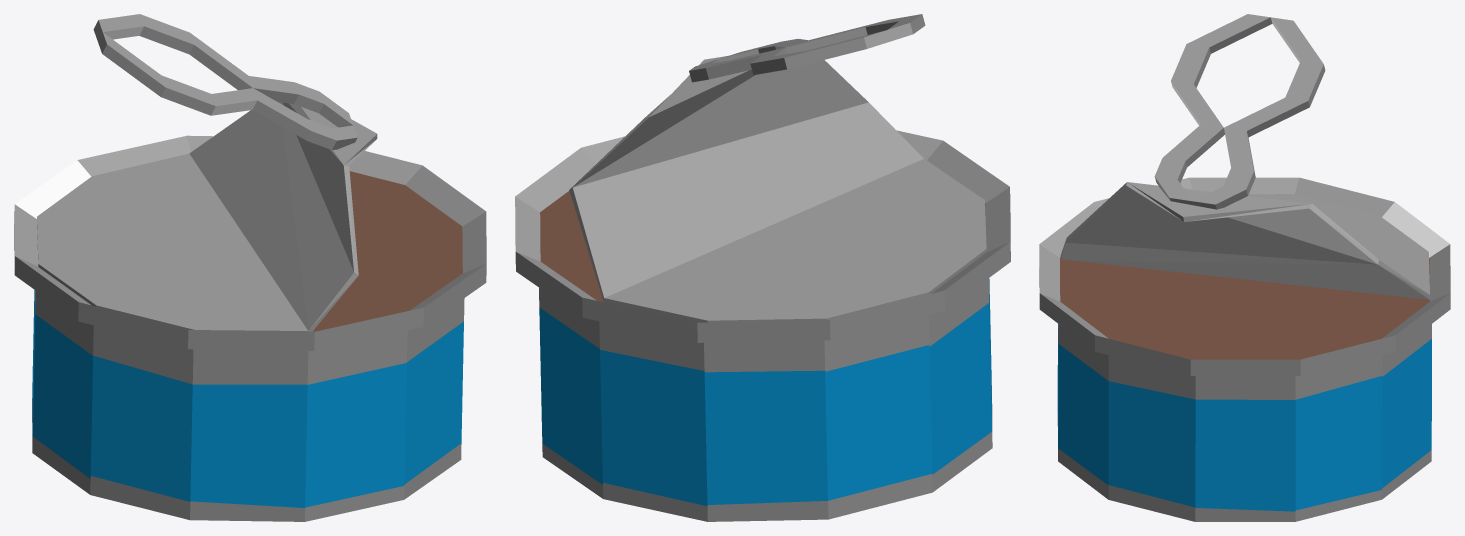
The model's file is item10.fbx.
The picture shows the model from 3 angles, left to right: view 1: azimuth 30°, elevation 25°; view 2: azimuth 150°, elevation 25°; view 3: azimuth 270°, elevation 25°; orthographic projection. The views are drawn at different scales.
Parts seen in each view (by area): view 1: group165027230, group558427750, group1010671563; view 2: group165027230, group558427750, group1010671563; view 3: group165027230, group558427750, group1010671563.
Part boxes in pixels (<box>): group165027230: <box>14,135,486,521</box>; group558427750: <box>37,102,377,331</box>; group1010671563: <box>93,14,357,149</box>; group165027230: <box>515,130,1010,521</box>; group558427750: <box>569,56,986,322</box>; group1010671563: <box>689,14,925,82</box>; group165027230: <box>1039,177,1450,521</box>; group558427750: <box>1060,182,1430,299</box>; group1010671563: <box>1154,14,1325,209</box>.
Bounding box in the file's own units: 67.05 × 66.74 × 67.01.
